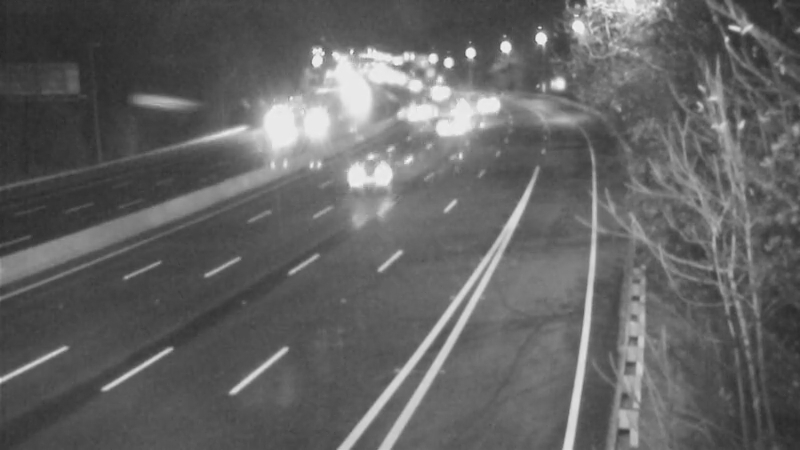vehicle: (324, 134, 404, 214), (418, 63, 468, 113), (462, 74, 512, 124), (424, 86, 474, 136), (388, 80, 438, 130), (423, 107, 473, 157), (257, 105, 307, 155)
